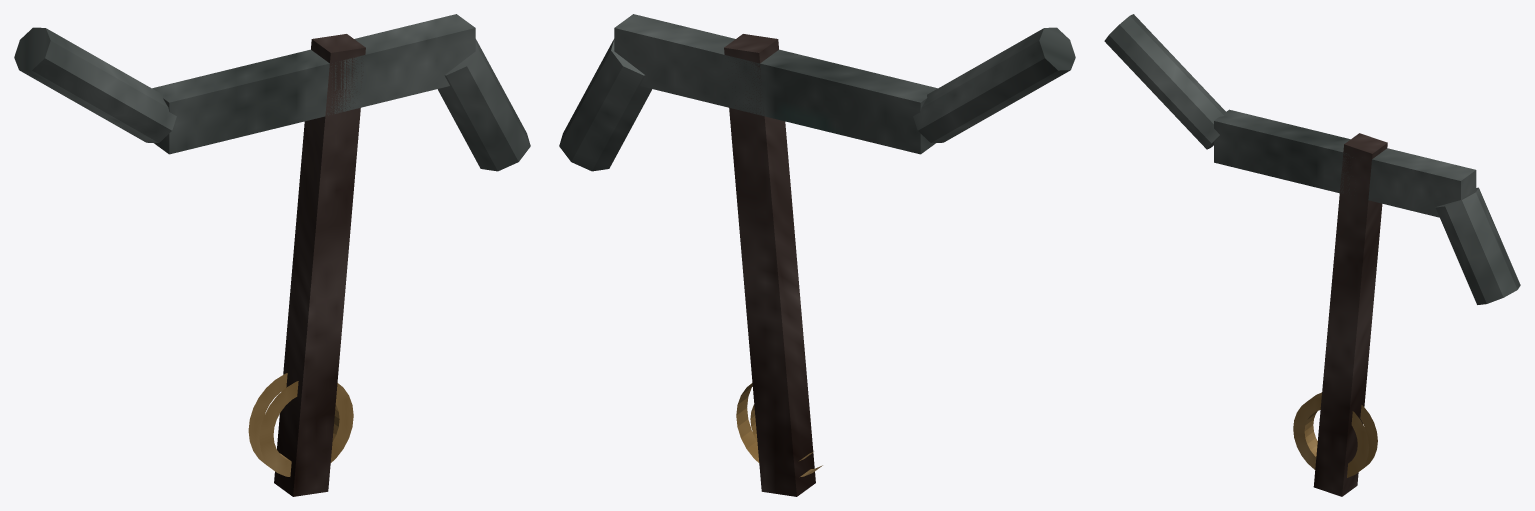
File: 0894_climbing_axe_19.glb
3 views of the same model, side by side, from view 1: azimuth 30°, elevation 25°; view 2: azimuth 150°, elevation 25°; view 3: azimuth 330°, elevation 25° (orthographic). The views are drawn at different scales.
Visible parts, largest first — view 1: iron, wood_dark, brass; view 2: iron, wood_dark, brass; view 3: iron, wood_dark, brass.
Part boxes in pixels (x1,y1,x2,y2): iron: (14,14,530,171); wood_dark: (274,34,365,496); brass: (248,373,353,476); iron: (559,14,1075,171); wood_dark: (724,34,815,496); brass: (736,383,822,476); iron: (1104,14,1520,304); wood_dark: (1313,133,1387,496); brass: (1293,392,1377,477).
Size of the model in its own units: 1.08 by 1.06 by 0.11.
3 materials, 3 textured.
